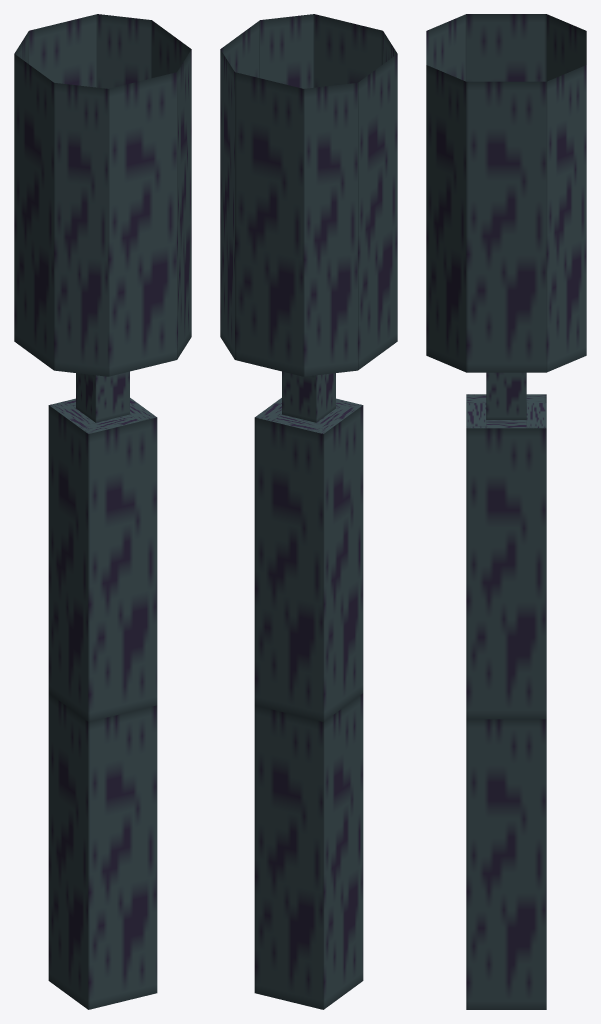
Rendered from LampPost.obj.
3 views of the same model, side by side, from view 1: azimuth 30°, elevation 25°; view 2: azimuth 150°, elevation 25°; view 3: azimuth 270°, elevation 25° (orthographic).
Visible parts, largest first — view 1: Default; view 2: Default; view 3: Default.
Part boxes in pixels (x1=…): Default: x1=14, y1=14, x2=191, y2=1009; Default: x1=220, y1=14, x2=397, y2=1009; Default: x1=426, y1=14, x2=586, y2=1009.
Bounding box in the file's own units: 0.5 × 3.25 × 0.5.
1 material, 1 textured.
